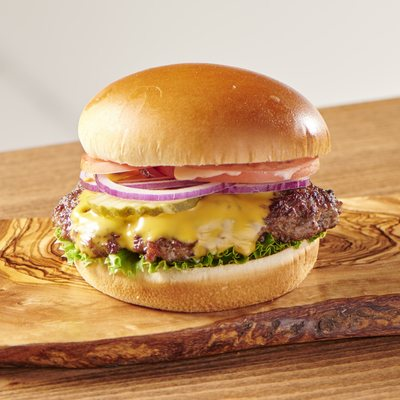soup: (48, 62, 348, 314)
